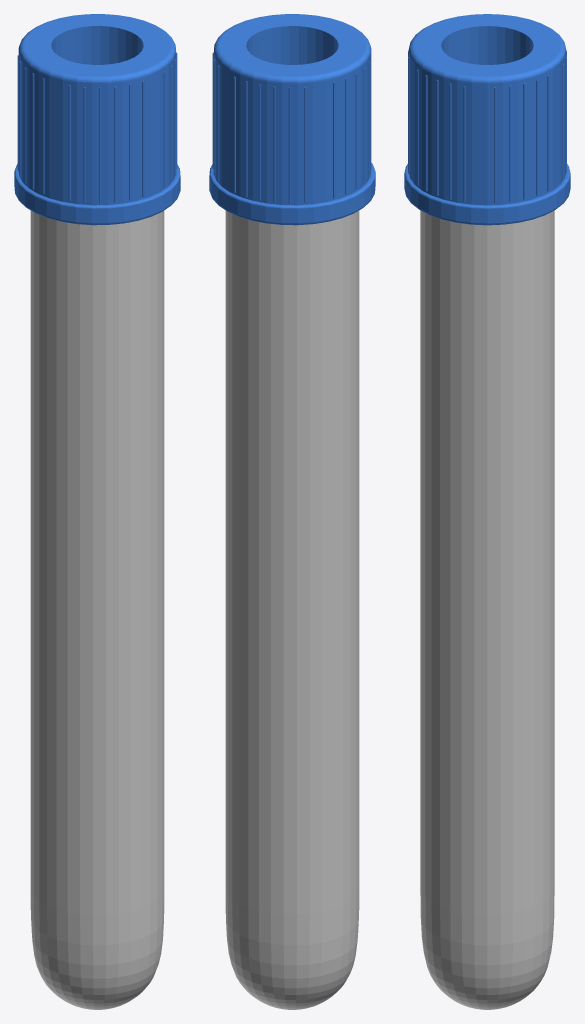
The model's file is Frascosangre.fbx.
The picture shows the model from 3 angles, left to right: view 1: azimuth 30°, elevation 25°; view 2: azimuth 150°, elevation 25°; view 3: azimuth 270°, elevation 25°; orthographic projection.
Parts seen in each view (by area): view 1: Cylinder, Cylinder.001; view 2: Cylinder, Cylinder.001; view 3: Cylinder, Cylinder.001.
Boxes of the visible parts, x1=… form: Cylinder: x1=30, y1=210, x2=164, y2=1009; Cylinder.001: x1=14, y1=14, x2=180, y2=225; Cylinder: x1=225, y1=210, x2=359, y2=1009; Cylinder.001: x1=209, y1=14, x2=375, y2=225; Cylinder: x1=420, y1=210, x2=554, y2=1009; Cylinder.001: x1=404, y1=14, x2=570, y2=225.
Bounding box in the file's own units: 103 × 654 × 103.
